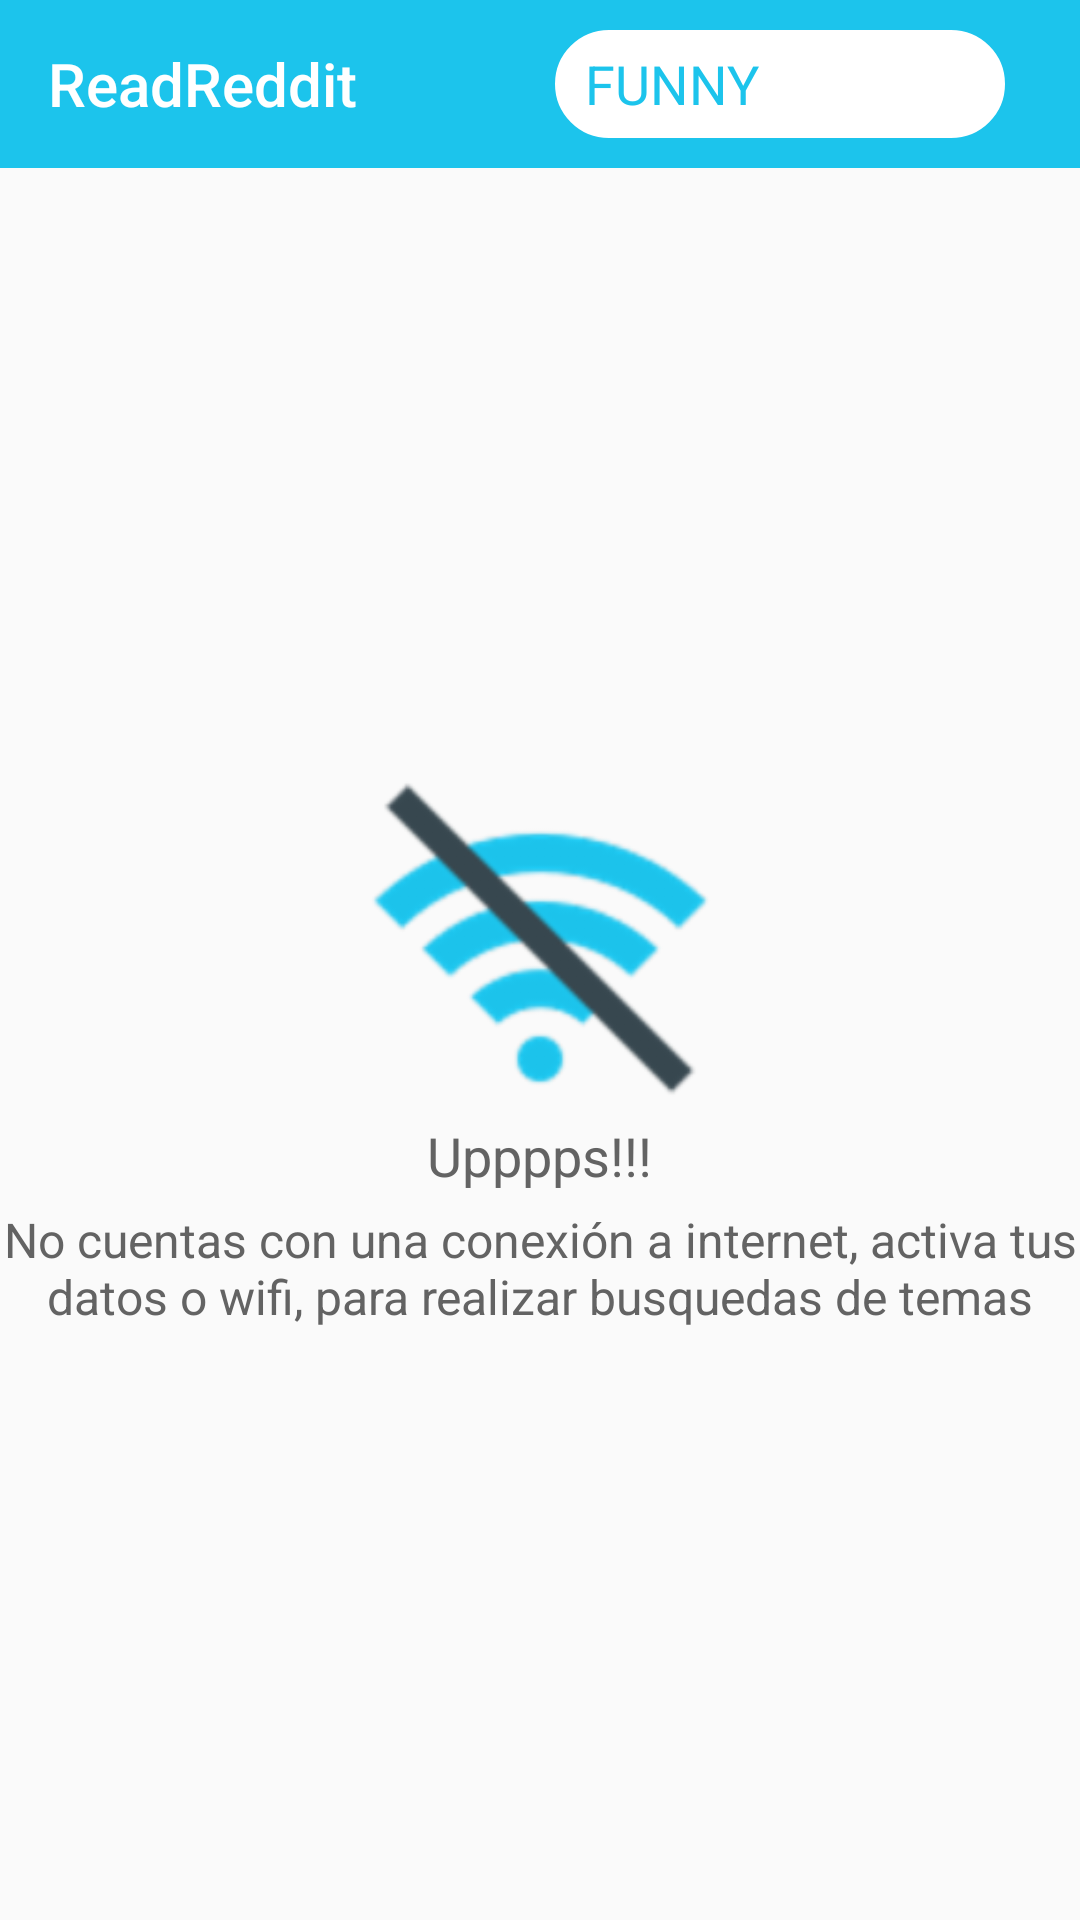

Icons on this 1080px×1920px Android screen, each with the point to tap as point (x, y):
wifi fail: point (540, 938)
